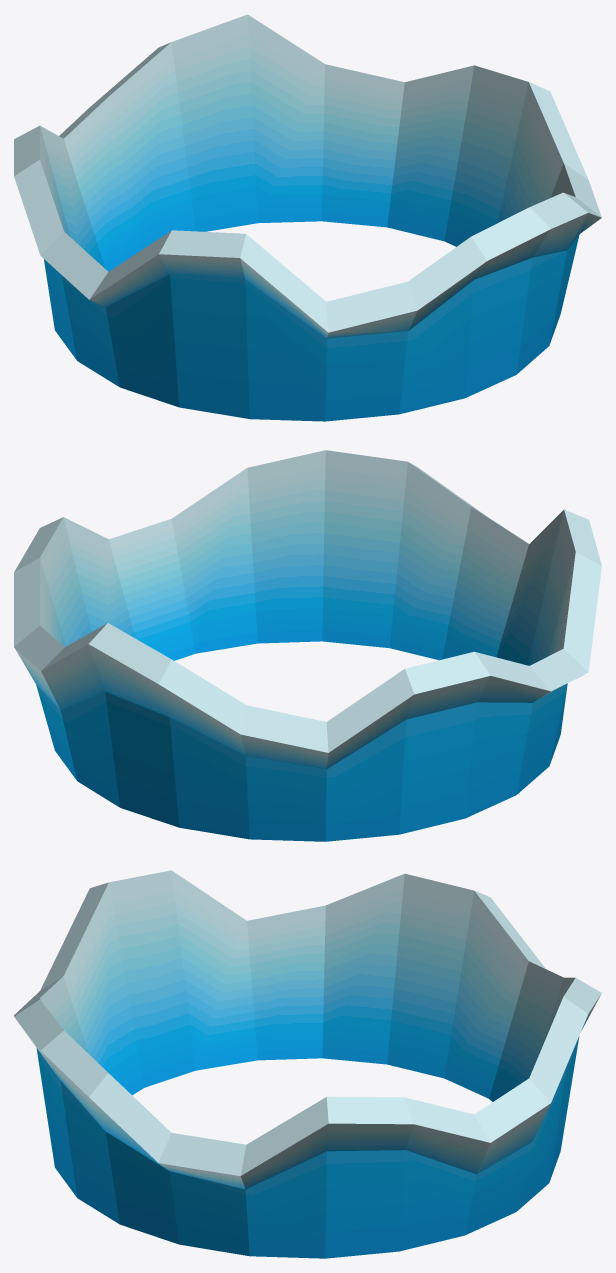
Rendered from waterRing_mod_01.fbx.
The picture shows the model from 3 angles, top to bottom: view 1: azimuth 30°, elevation 25°; view 2: azimuth 150°, elevation 25°; view 3: azimuth 270°, elevation 25°; orthographic projection.
Visible parts, largest first — view 1: waterRing_01; view 2: waterRing_01; view 3: waterRing_01.
Boxes of the visible parts, left/top/right/bottom form: waterRing_01: left=14, top=14, right=601, bottom=421; waterRing_01: left=14, top=450, right=601, bottom=841; waterRing_01: left=14, top=870, right=601, bottom=1258.
Bounding box in the file's own units: 2.32 × 2.31 × 0.8314.
